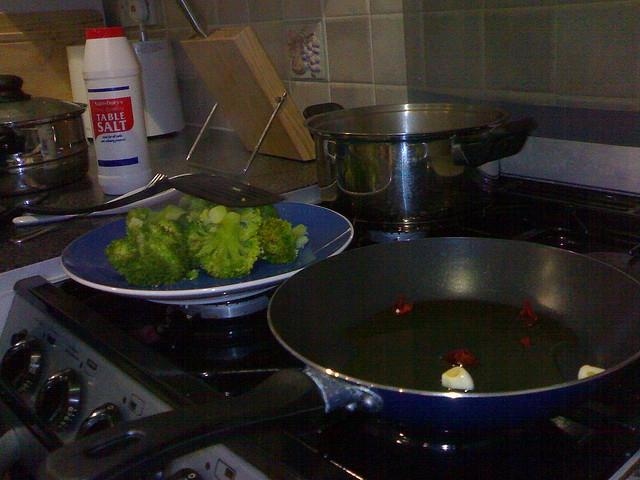broccoli: (106, 219, 192, 288), (255, 217, 309, 263), (126, 205, 186, 231), (236, 208, 264, 242), (249, 205, 279, 223)
garlic: (442, 366, 474, 390), (578, 365, 606, 380)
